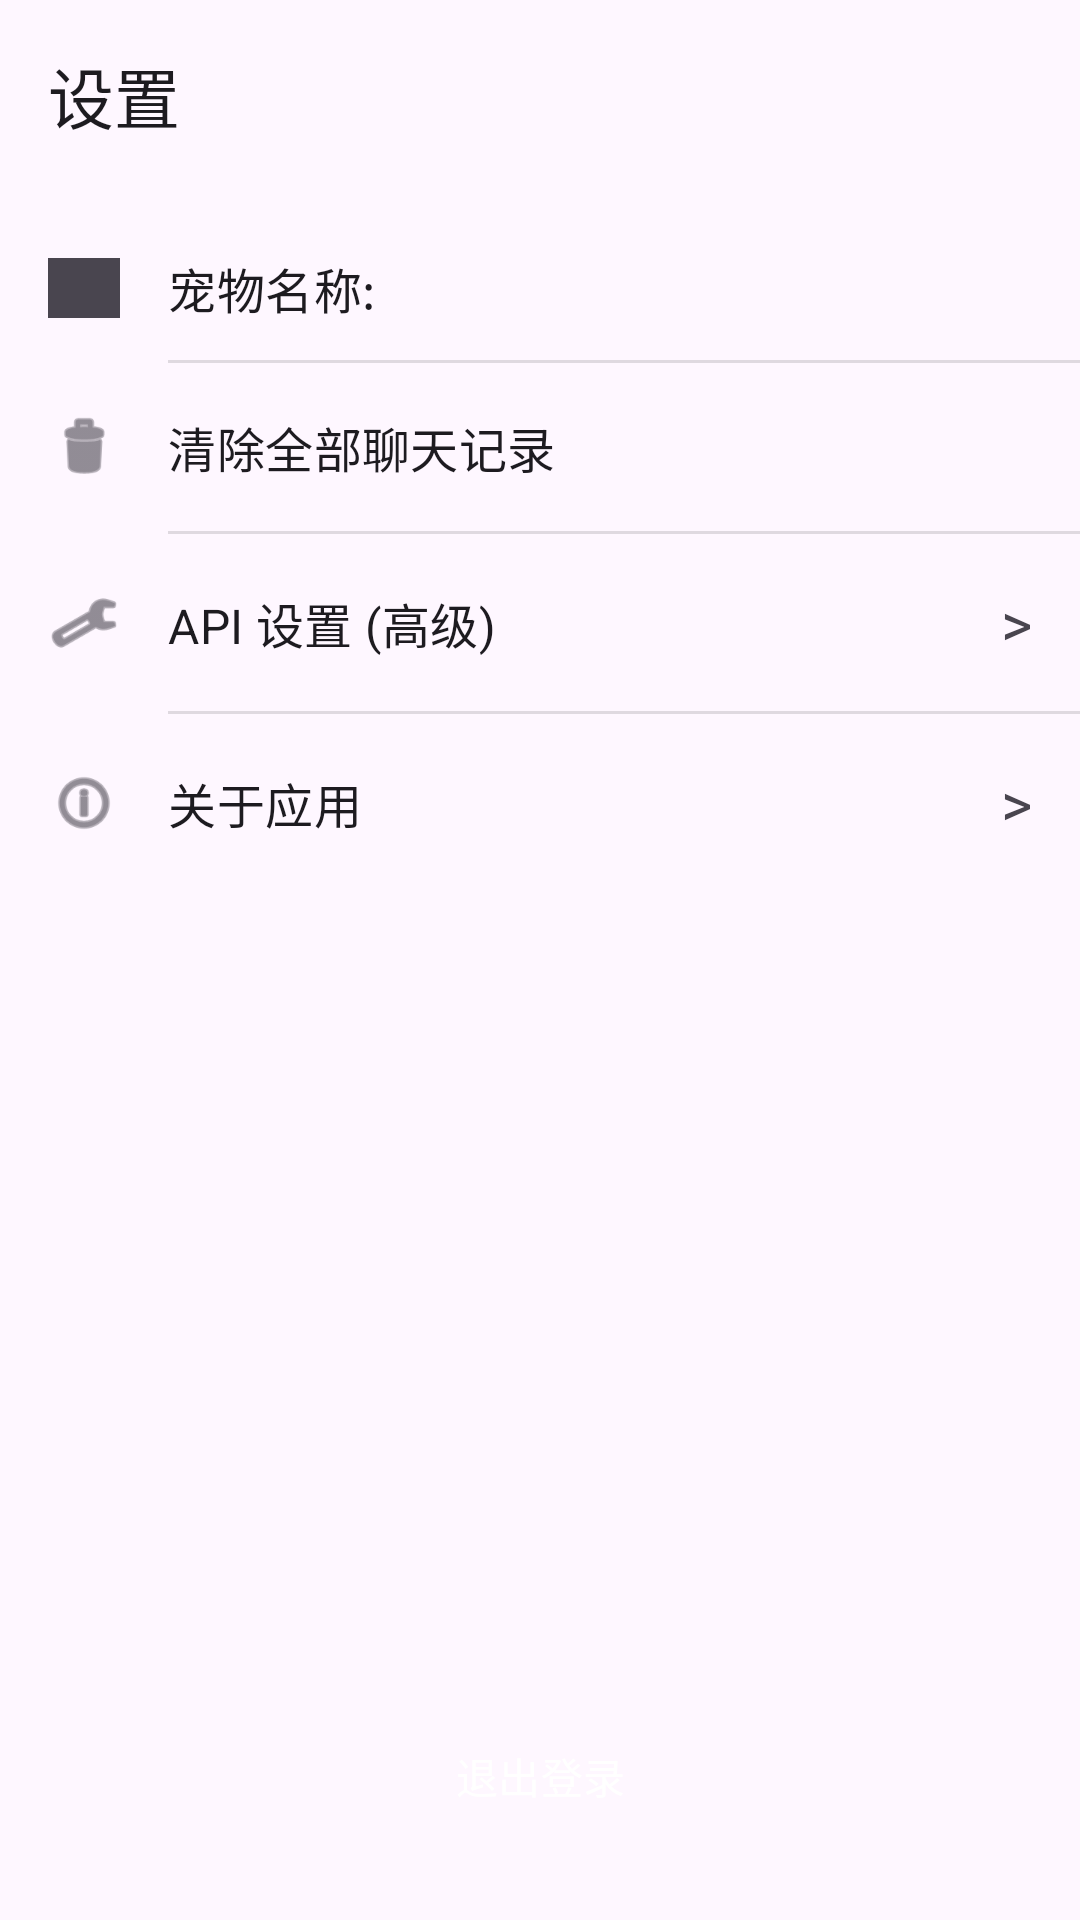

Named icons in this screenshot (1080×1920) and their bounding boxes, region(x1, y1, x2, y2):
API设置图标: region(52, 598, 116, 648)
清除图标: region(64, 418, 105, 474)
